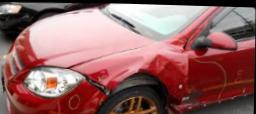Bumper: (71, 79, 114, 108)
Fender: (141, 49, 187, 88)
